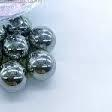ironball: (0, 59, 27, 92), (29, 50, 56, 81), (29, 24, 55, 55), (2, 31, 30, 59), (6, 15, 33, 36), (0, 18, 5, 41), (0, 0, 28, 1)
